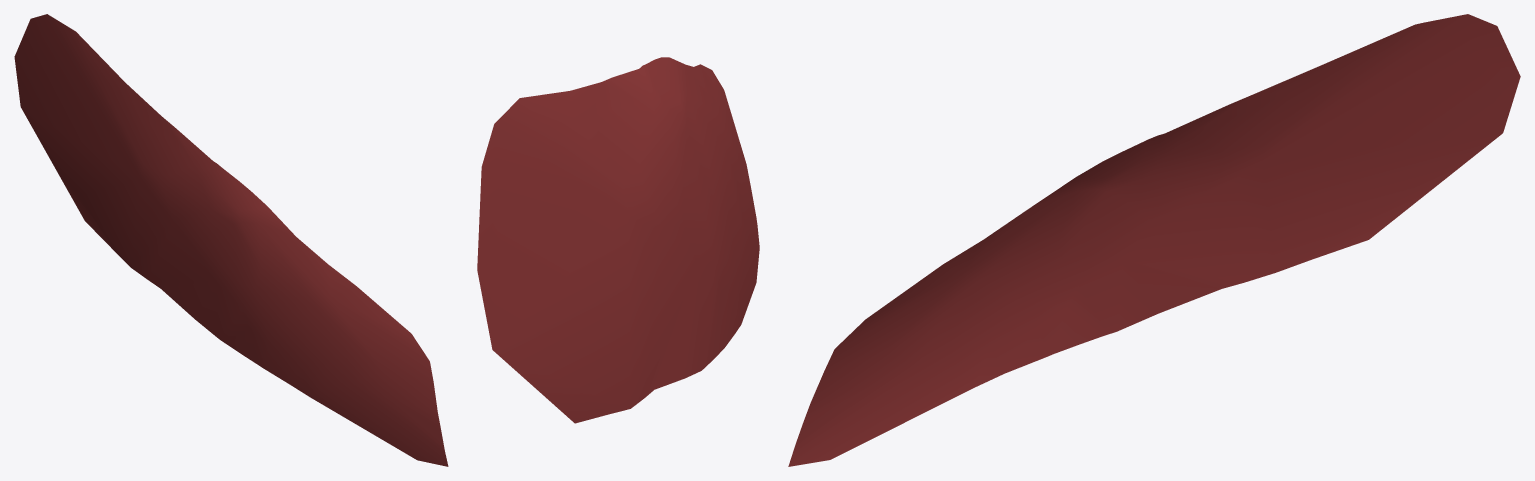
Rendered from serratus-anterior-muscle-e4r.glb.
3 renders of one model, left to right at view 1: azimuth 30°, elevation 25°; view 2: azimuth 150°, elevation 25°; view 3: azimuth 270°, elevation 25°, orthographic. The views are drawn at different scales.
Parts seen in each view (by area): view 1: Serratus anterior muscle.e4r; view 2: Serratus anterior muscle.e4r; view 3: Serratus anterior muscle.e4r.
Boxes of the visible parts, bbox=[...] form: Serratus anterior muscle.e4r: bbox=[14, 14, 448, 466]; Serratus anterior muscle.e4r: bbox=[477, 57, 759, 423]; Serratus anterior muscle.e4r: bbox=[788, 14, 1520, 466].
Bounding box in the file's own units: 0.0117 × 0.0223 × 0.0397.
